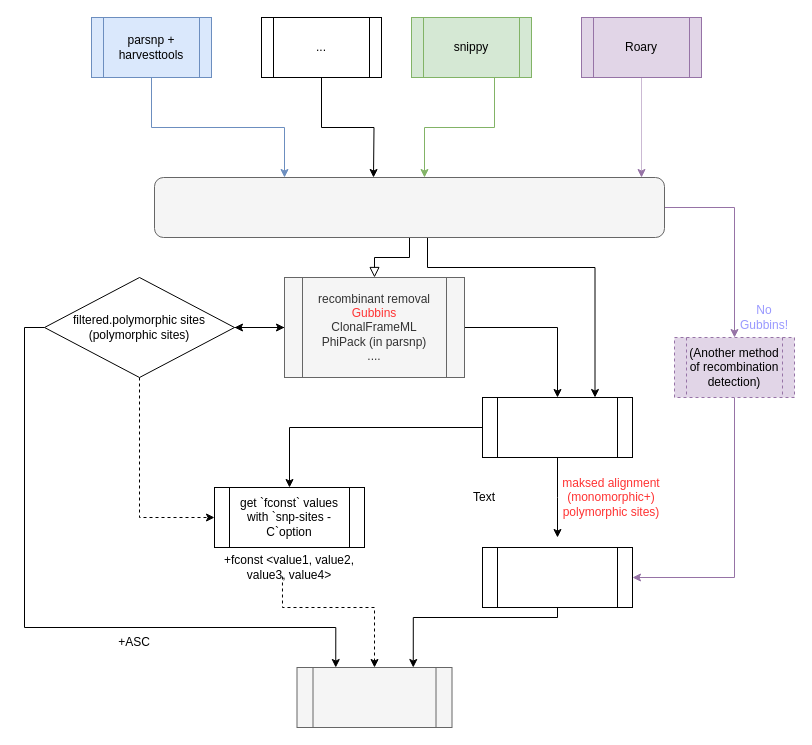
The diagram is 812 pixels wide and 745 high, and some of its shapes have lost their labels. The shapes that lost their labels are listed below. From the top down, each one's centre as x and y in pixels, then its label:
At [409,207]: "MSA Multiple sequence alignment (both polymorphic and invariant sites)".
At [557,427]: "Mask recombinant regions (ex. maskrc-svg)".
At [557,577]: "Optional Deduplication identical sequences (ie. seqkit)".
At [374,697]: "iqtree".
